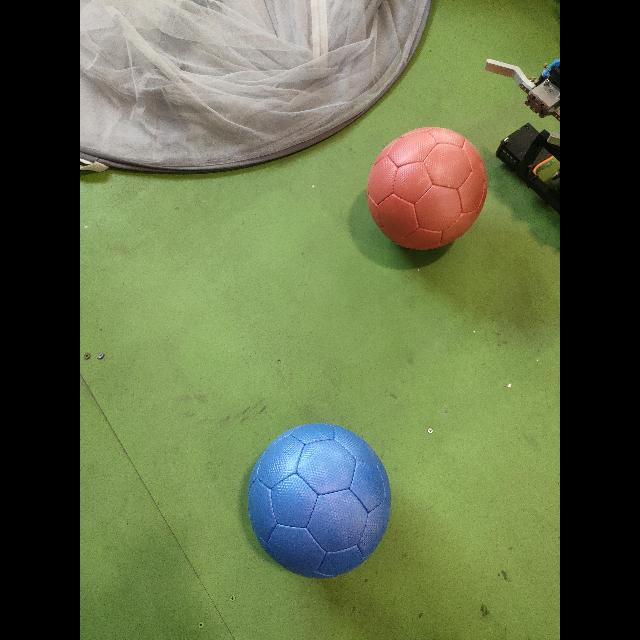B: (247, 424, 393, 576)
R: (368, 125, 488, 252)
